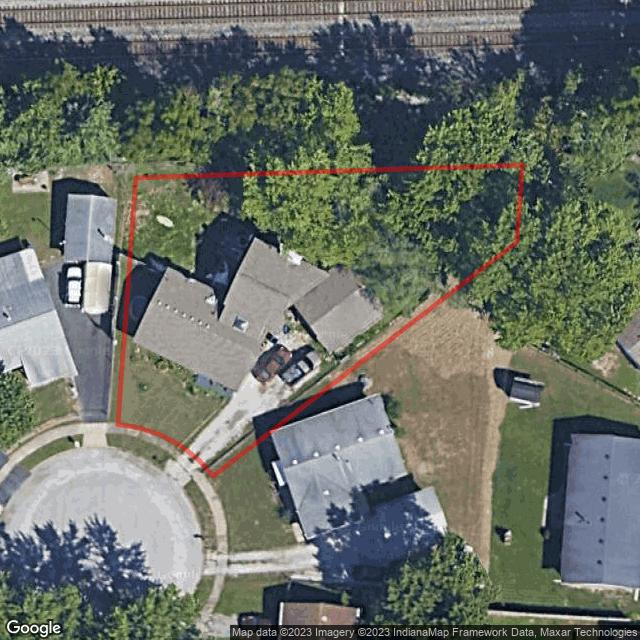Driveway: (189, 310, 331, 462)
Extra Driveway: (161, 452, 204, 487)
Extra Lawn: (116, 434, 172, 468), (183, 480, 201, 498)
Extra Sidewalk: (118, 425, 181, 458), (193, 474, 209, 490)
House: (134, 237, 389, 389)
